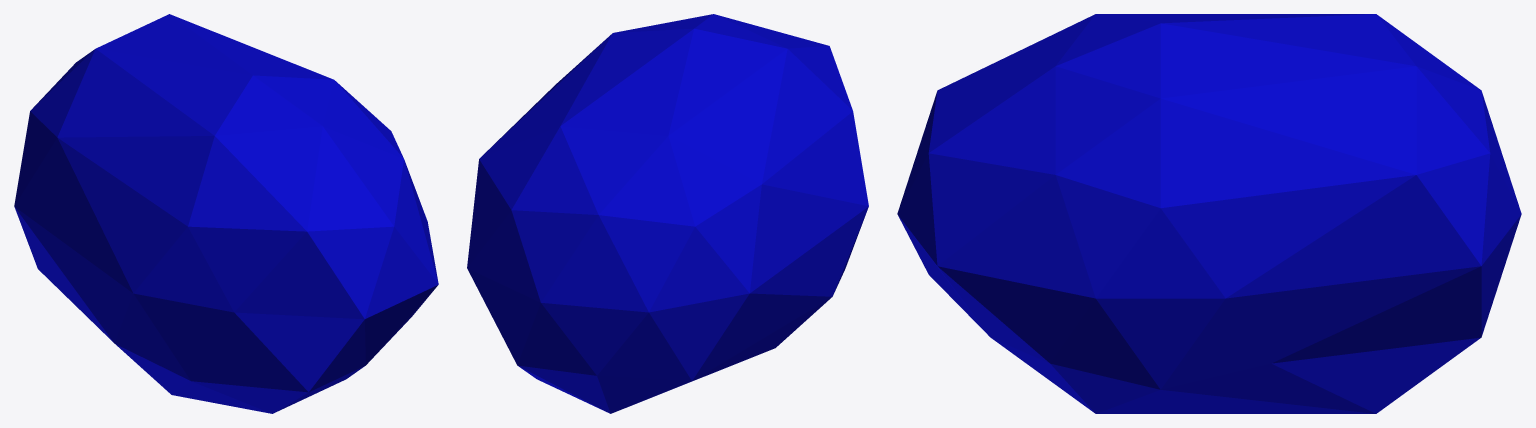
The model's file is asteroid.obj.
3 views of the same model, side by side, from view 1: azimuth 30°, elevation 25°; view 2: azimuth 150°, elevation 25°; view 3: azimuth 270°, elevation 25° (orthographic). The views are drawn at different scales.
Parts seen in each view (by area): view 1: Icosphere; view 2: Icosphere; view 3: Icosphere.
Part boxes in pixels (bbox=[...]): Icosphere: bbox=[14, 14, 438, 413]; Icosphere: bbox=[467, 14, 868, 413]; Icosphere: bbox=[897, 14, 1521, 413].
Size of the model in its own units: 11.63 by 12.23 by 18.15.
